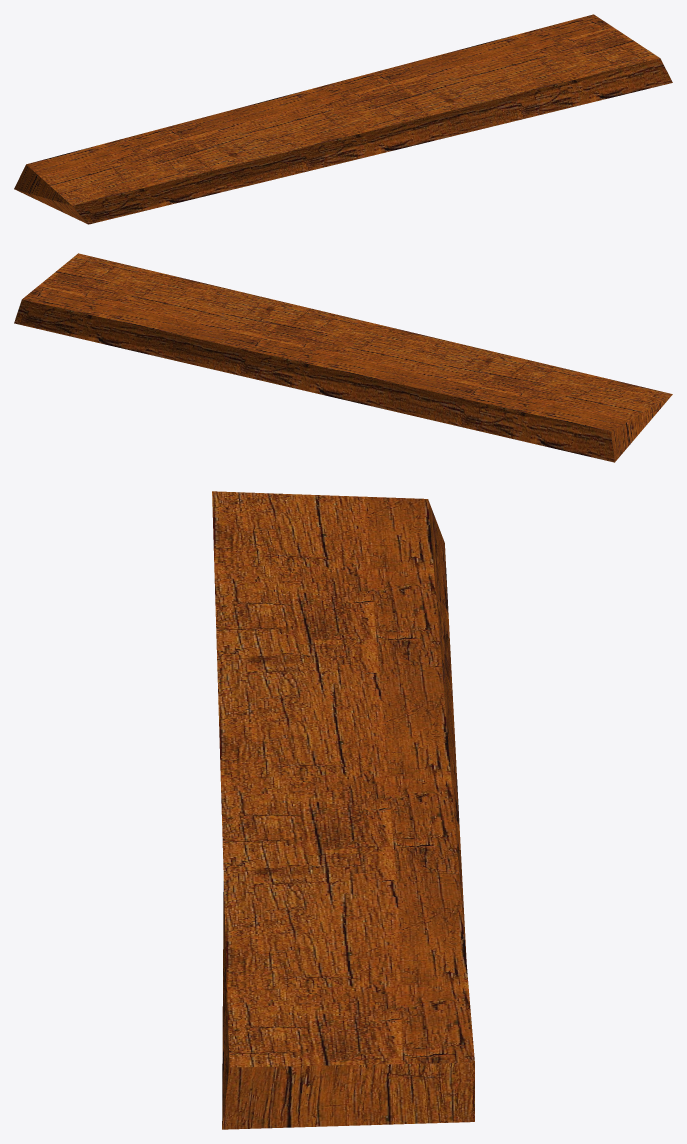
The model's file is DESKA2.glb.
3 views of the same model, one above another, from view 1: azimuth 30°, elevation 25°; view 2: azimuth 150°, elevation 25°; view 3: azimuth 270°, elevation 25° (orthographic). The views are drawn at different scales.
Parts seen in each view (by area): view 1: DESKA2; view 2: DESKA2; view 3: DESKA2.
Boxes of the visible parts, box(x1,y1,x2,y2) form: DESKA2: box(14, 14, 672, 224); DESKA2: box(14, 253, 672, 462); DESKA2: box(212, 491, 474, 1129).
Bounding box in the file's own units: 1.83 × 0.0751 × 0.346.
Materials: 1 (1 with a texture image).
